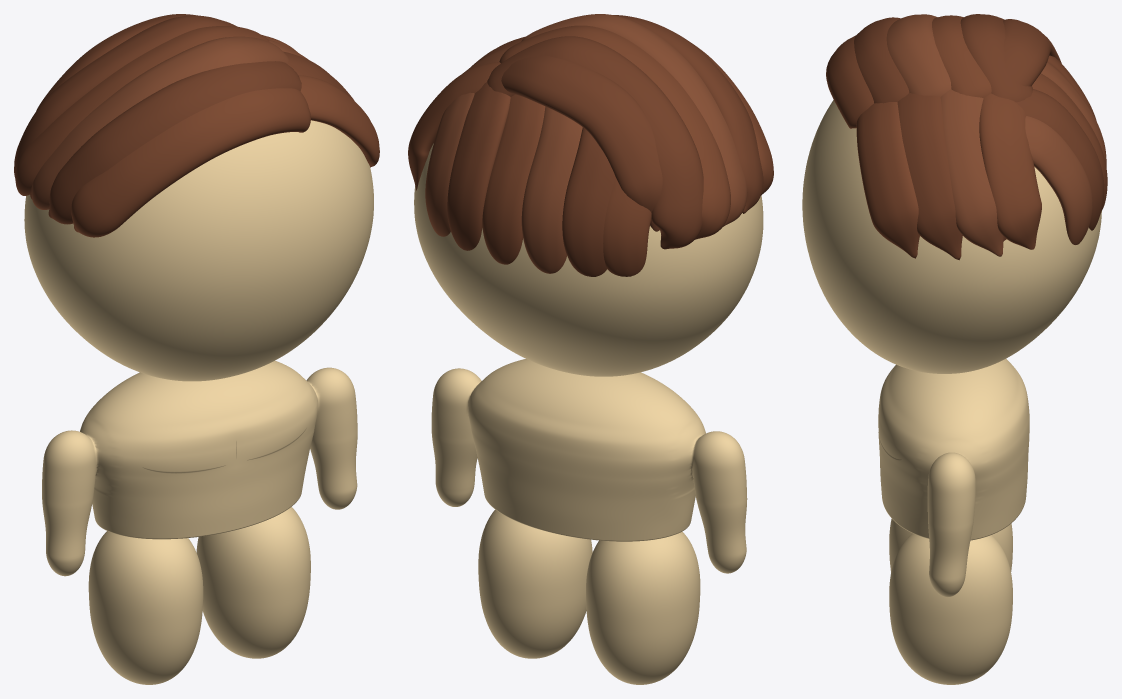
The model's file is Masculine-shirtless-base.glb.
The picture shows the model from 3 angles, left to right: view 1: azimuth 30°, elevation 25°; view 2: azimuth 150°, elevation 25°; view 3: azimuth 270°, elevation 25°; orthographic projection.
Parts seen in each view (by area): view 1: Skin / soft oval head, Skin / rounded torso, Skin / leg blob -1, Skin / leg blob 1, Hair / Side part main 0, Hair / Side part main 1, Hair / Side part main 2, Hair / Side part main 3, Hair / Side part main 4, Hair / Side part short 0, Hair / Side part crown, Hair / Side part short 1; view 2: Skin / rounded torso, Skin / soft oval head, Skin / leg blob -1, Skin / leg blob 1, Hair / Side part crown, Hair / Side part main 4, Hair / Side part nape 2, Hair / Side part main 3, Hair / Side part nape 3, Hair / Side part nape 4, Hair / Side part main 2, Hair / Side part nape 1 (+5 smaller); view 3: Skin / soft oval head, Skin / rounded torso, Skin / leg blob 1, Hair / Side part short 3, Hair / Side part short 0, Hair / Side part short 1, Hair / Side part short 2, Hair / Side part nape 5, Hair / Side part main 2, Hair / Side part nape 4, Hair / Side part main 4, Hair / Side part main 1 (+6 smaller).
Part boxes in pixels (left/top/right/bottom): Skin / soft oval head: left=24, top=120, right=373, bottom=381; Skin / rounded torso: left=42, top=360, right=357, bottom=576; Skin / leg blob -1: left=88, top=531, right=203, bottom=684; Skin / leg blob 1: left=196, top=507, right=310, bottom=658; Hair / Side part main 0: left=71, top=88, right=310, bottom=237; Hair / Side part main 1: left=48, top=61, right=301, bottom=224; Hair / Side part main 2: left=31, top=36, right=288, bottom=209; Hair / Side part main 3: left=15, top=26, right=269, bottom=195; Hair / Side part main 4: left=14, top=15, right=236, bottom=177; Hair / Side part short 0: left=298, top=75, right=379, bottom=167; Hair / Side part crown: left=36, top=14, right=197, bottom=110; Hair / Side part short 1: left=283, top=51, right=354, bottom=100; Skin / rounded torso: left=431, top=359, right=747, bottom=573; Skin / soft oval head: left=414, top=143, right=763, bottom=376; Skin / leg blob -1: left=586, top=531, right=700, bottom=684; Skin / leg blob 1: left=478, top=509, right=592, bottom=658; Hair / Side part crown: left=501, top=55, right=662, bottom=231; Hair / Side part main 4: left=487, top=36, right=703, bottom=249; Hair / Side part nape 2: left=521, top=106, right=582, bottom=273; Hair / Side part main 3: left=499, top=25, right=730, bottom=239; Hair / Side part nape 3: left=482, top=94, right=545, bottom=264; Hair / Side part nape 4: left=447, top=82, right=510, bottom=250; Hair / Side part main 2: left=521, top=14, right=747, bottom=226; Hair / Side part nape 1: left=562, top=127, right=615, bottom=276; Skin / soft oval head: left=802, top=100, right=1101, bottom=373; Skin / rounded torso: left=878, top=359, right=1029, bottom=597; Skin / leg blob 1: left=889, top=533, right=1012, bottom=684; Hair / Side part short 3: left=979, top=93, right=1041, bottom=249; Hair / Side part short 0: left=856, top=102, right=919, bottom=258; Hair / Side part short 1: left=897, top=93, right=962, bottom=260; Hair / Side part short 2: left=940, top=89, right=1003, bottom=256; Hair / Side part nape 5: left=1025, top=116, right=1092, bottom=244; Hair / Side part main 2: left=886, top=14, right=951, bottom=96; Hair / Side part nape 4: left=1016, top=89, right=1104, bottom=230; Hair / Side part main 4: left=960, top=14, right=1032, bottom=102; Hair / Side part main 1: left=854, top=17, right=909, bottom=103.
Bounding box in the file's own units: 0.9754 × 1.87 × 0.825.
